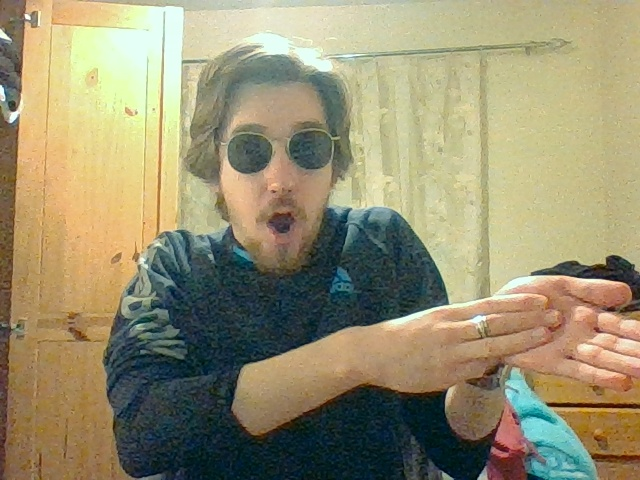mother: (465, 276, 640, 390)
